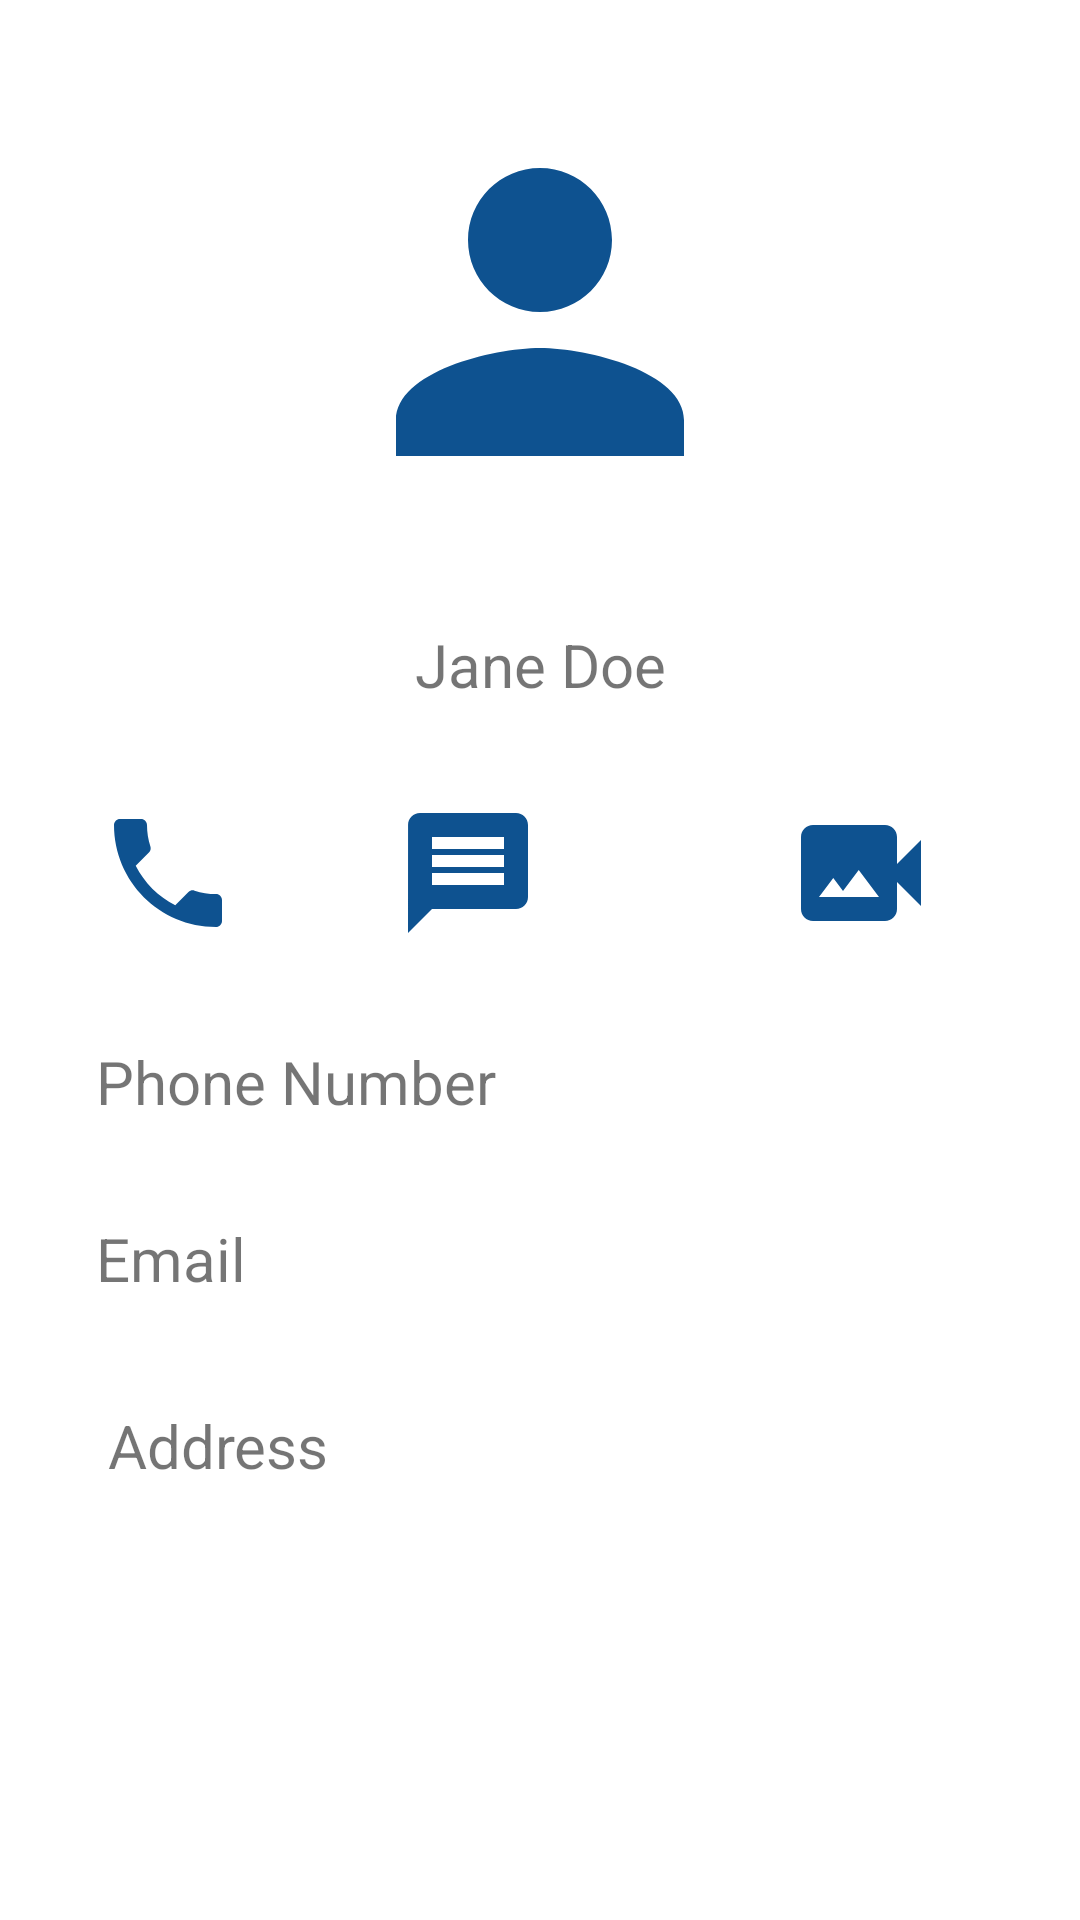

Named icons in this screenshot (1080px x 1920px) and their centers, (x,y):
local phone: (168,873)
message: (468,873)
person: (540,312)
video camera back: (861,873)
